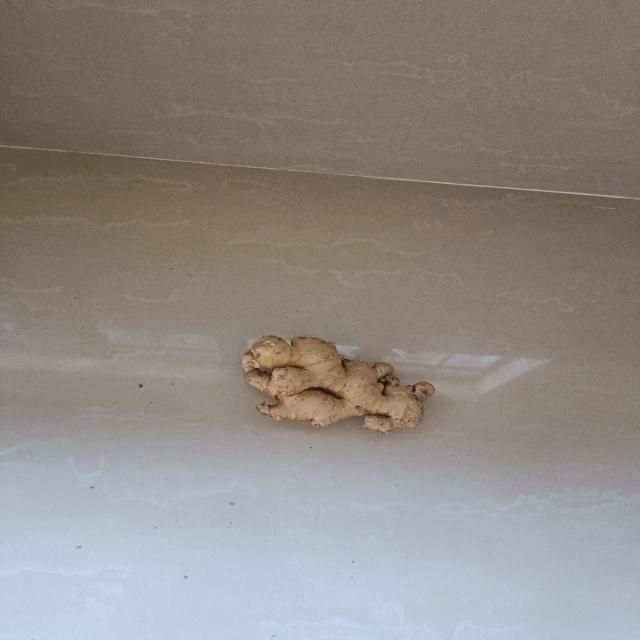ginger: (240, 332, 435, 435)
